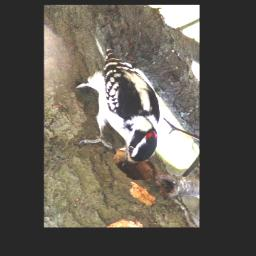Woodpecker: (75, 41, 159, 168)
